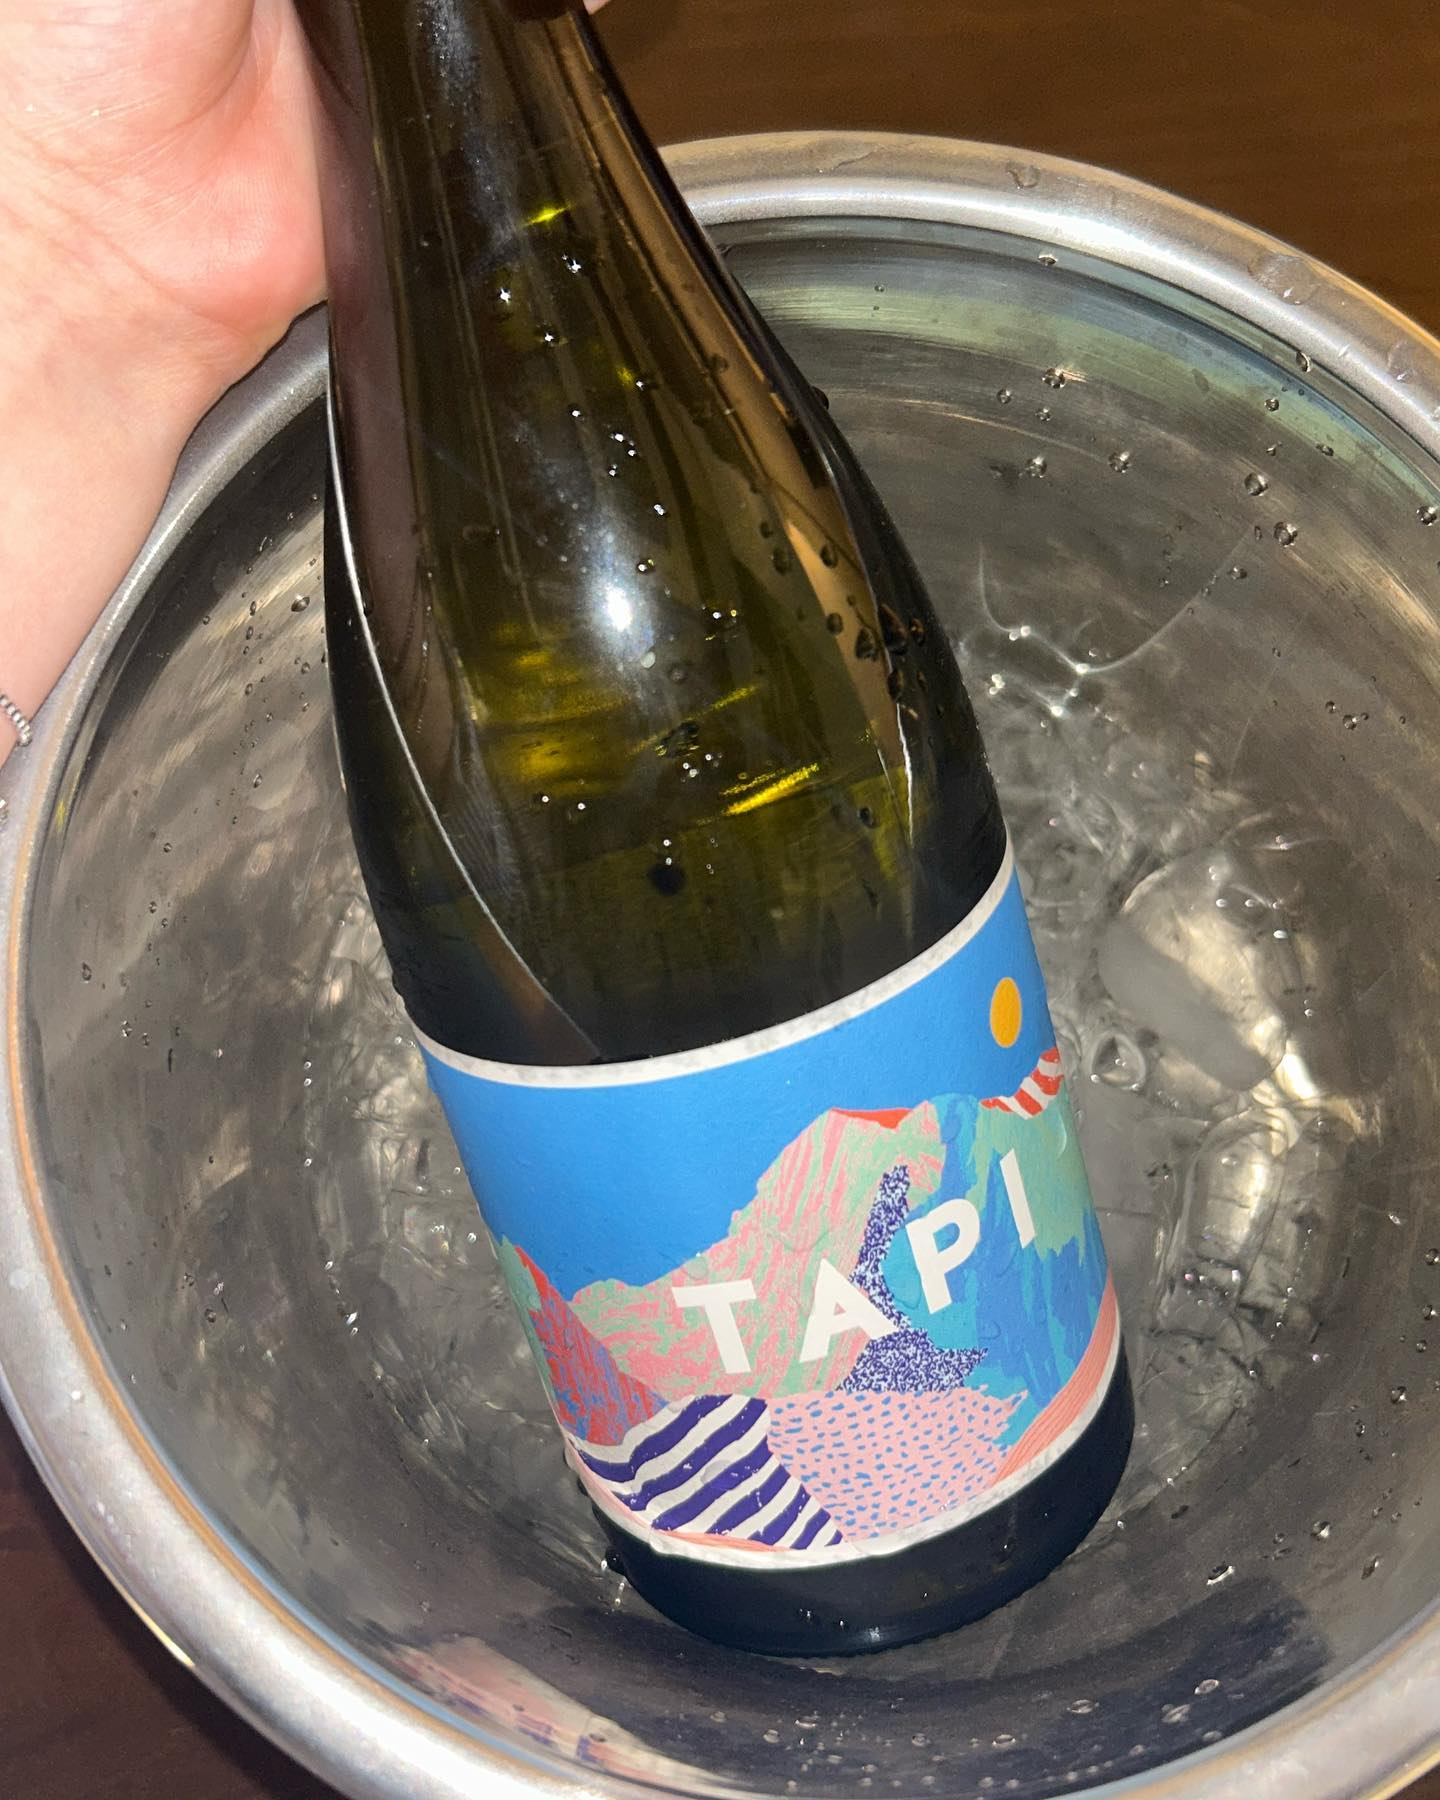alcohol: (278, 0, 1145, 1674)
